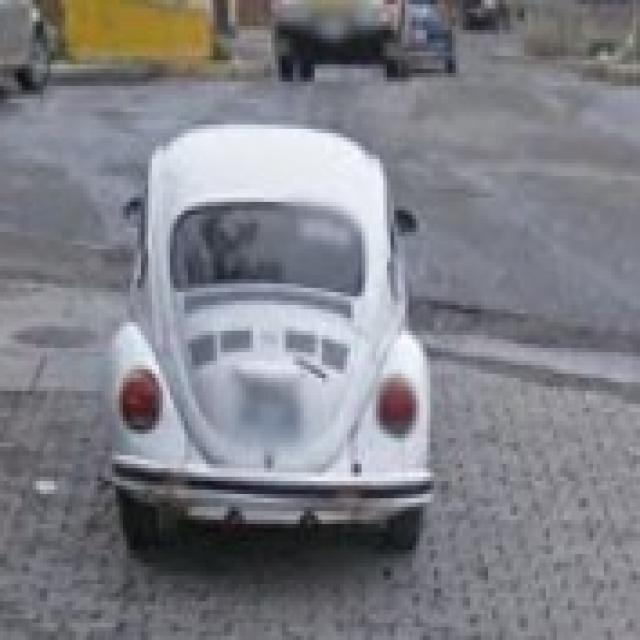car: (101, 122, 436, 551), (260, 0, 405, 82), (1, 0, 55, 98), (388, 0, 457, 76), (458, 0, 516, 40)
